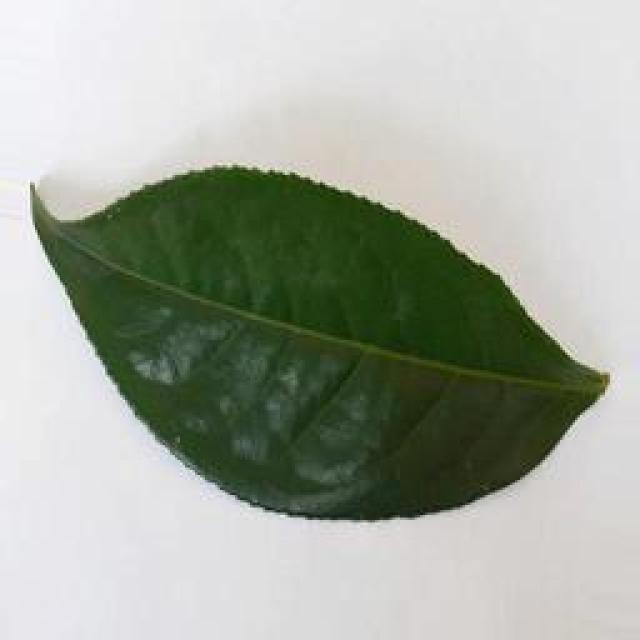Healthy: (26, 153, 632, 526)
